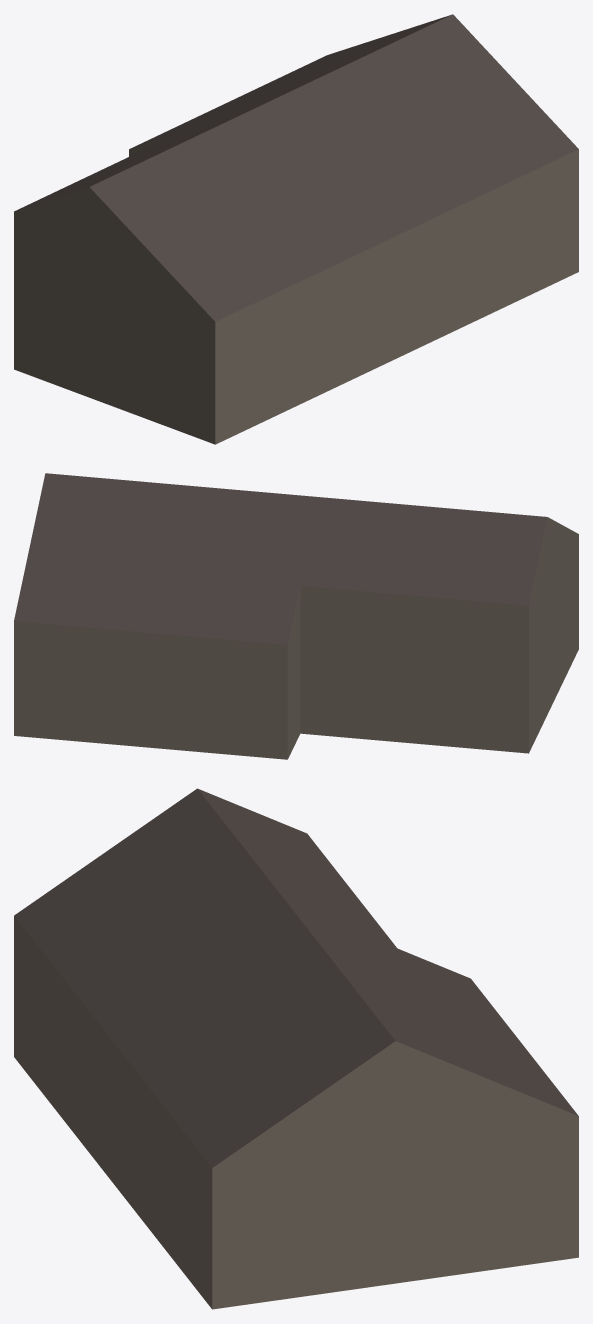
3 renders of one model, top to bottom at view 1: azimuth 30°, elevation 25°; view 2: azimuth 150°, elevation 25°; view 3: azimuth 270°, elevation 25°, orthographic. The views are drawn at different scales.
Parts seen in each view (by area): view 1: HP-w859457386; view 2: HP-w859457386; view 3: HP-w859457386.
Part boxes in pixels (<box>): HP-w859457386: <box>14,14,578,444</box>; HP-w859457386: <box>14,473,578,759</box>; HP-w859457386: <box>14,788,578,1309</box>.
Size of the model in its own units: 26.78 by 10.3 by 21.74.
